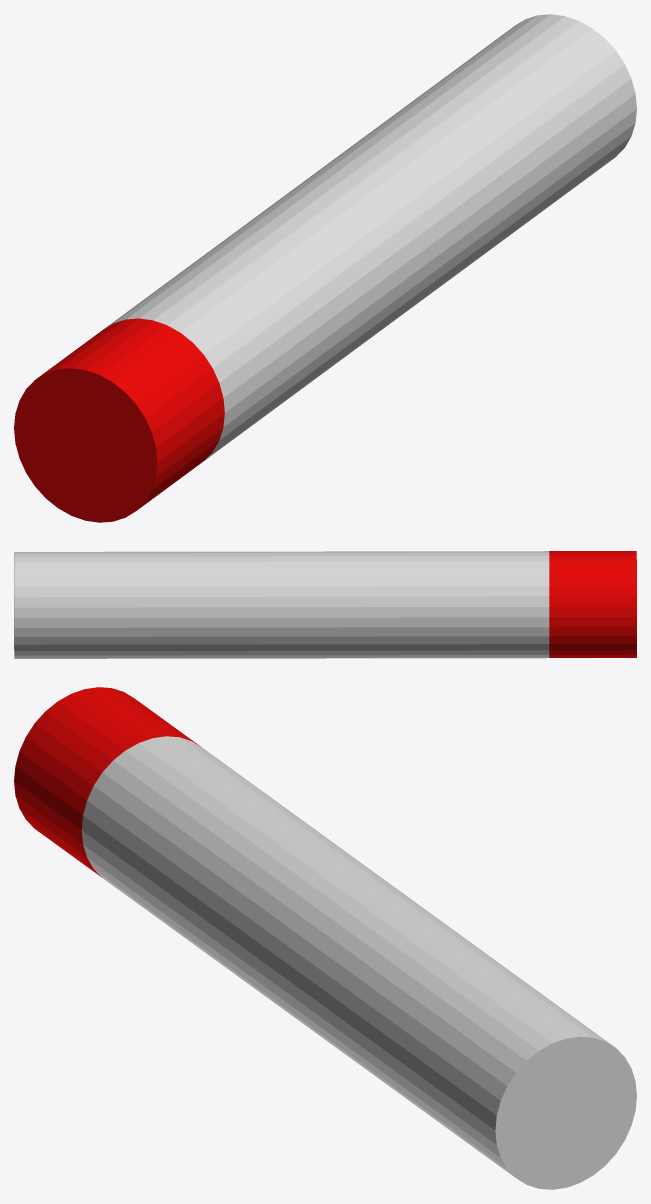
The model's file is Circuit2.fbx.
3 views of the same model, one above another, from view 1: azimuth 30°, elevation 25°; view 2: azimuth 150°, elevation 25°; view 3: azimuth 270°, elevation 25° (orthographic). The views are drawn at different scales.
Visible parts, largest first — view 1: Trial2; view 2: Trial2; view 3: Trial2.
Boxes of the visible parts, x1,y1,x2,y2 form: Trial2: (14, 14, 636, 522); Trial2: (14, 551, 636, 658); Trial2: (14, 687, 636, 1189).
Bounding box in the file's own units: 182 × 32.96 × 125.
